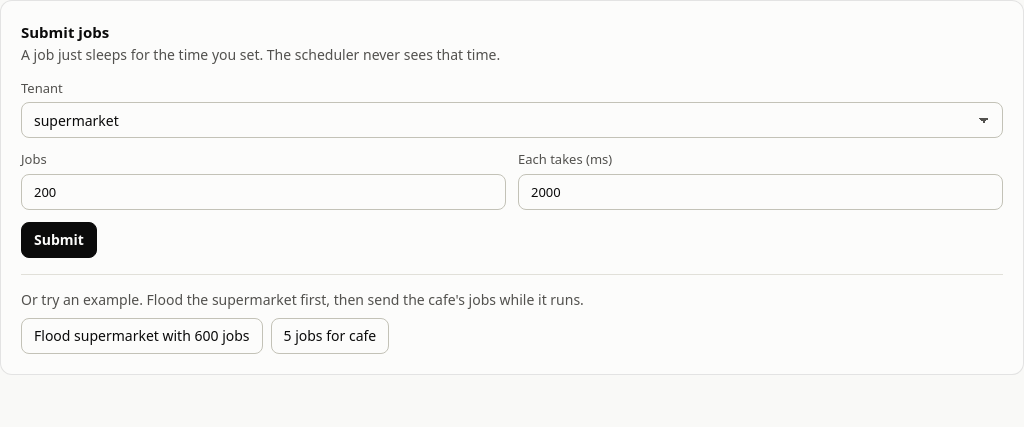
Test case: the form that submits jobs › stores the jobs for the chosen tenant and says how many
Click the dropdown named "Tenant" at x=512, y=120, box [21,102,1003,138]
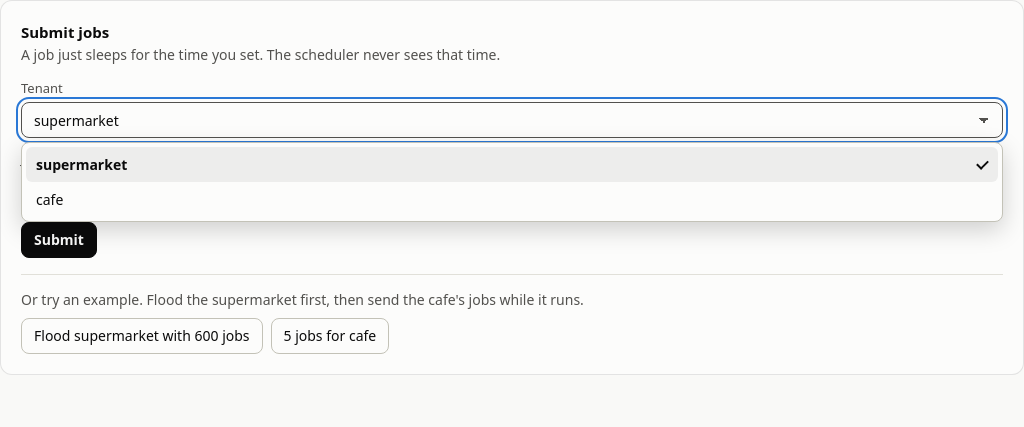
Click the option "cafe" at x=50, y=200, box [36,190,63,209]
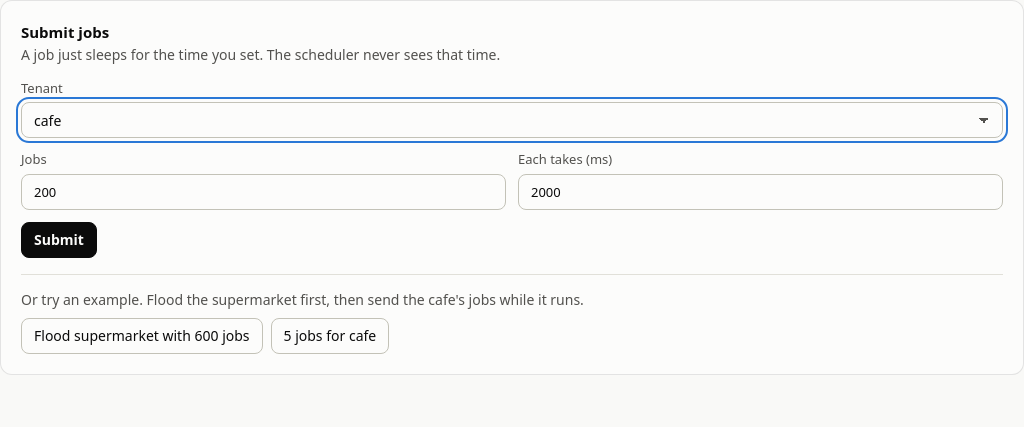
Replace the text in the number field labelled "Jobs" with "3" at x=264, y=192, box [21,174,506,210]
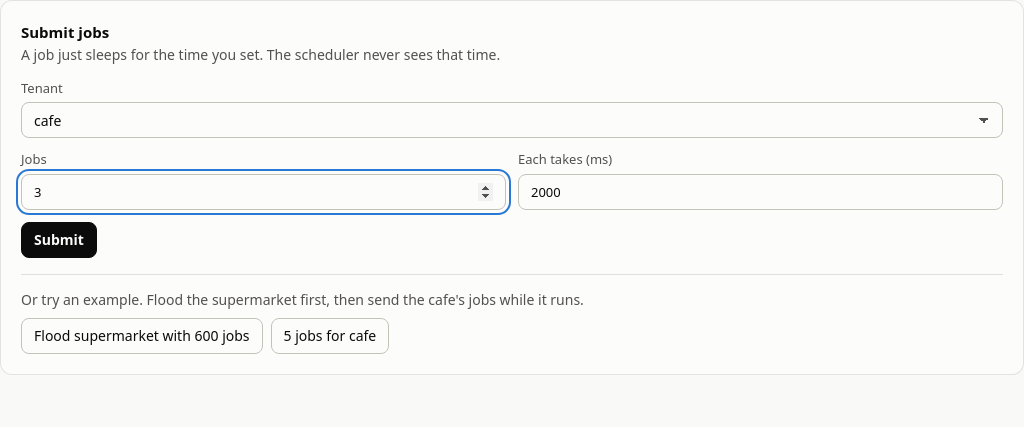
Replace the text in the number field labelled "Each takes (ms)" with "250" at x=760, y=192, box [518,174,1003,210]
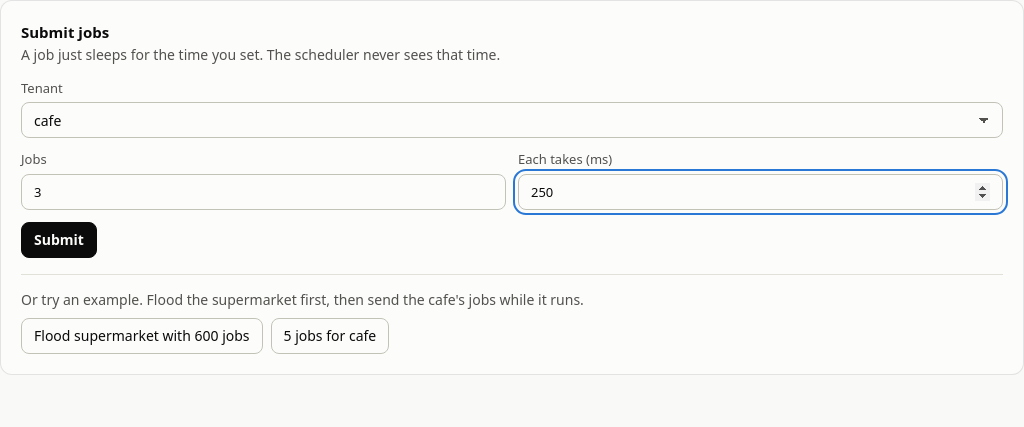
Click the button "Submit" at x=59, y=240, box [21,222,97,258]
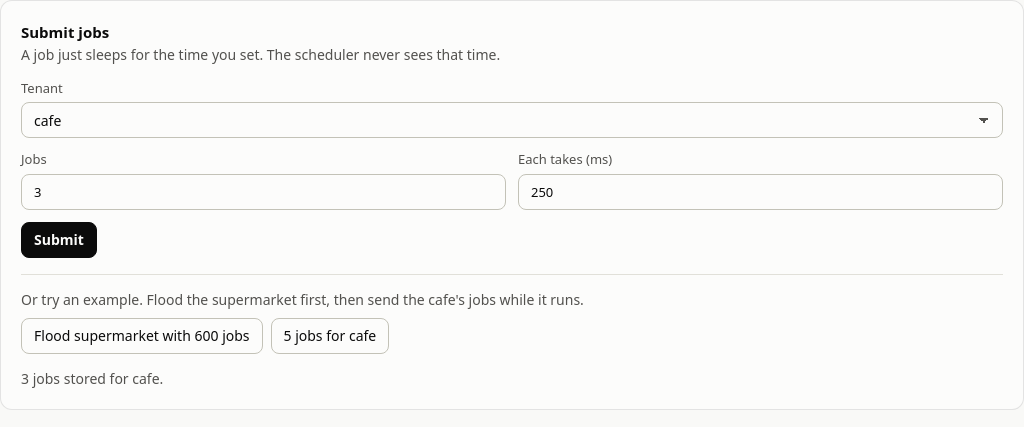
Expected: the text "3 jobs stored for cafe." is shown, [21,368,163,388]
